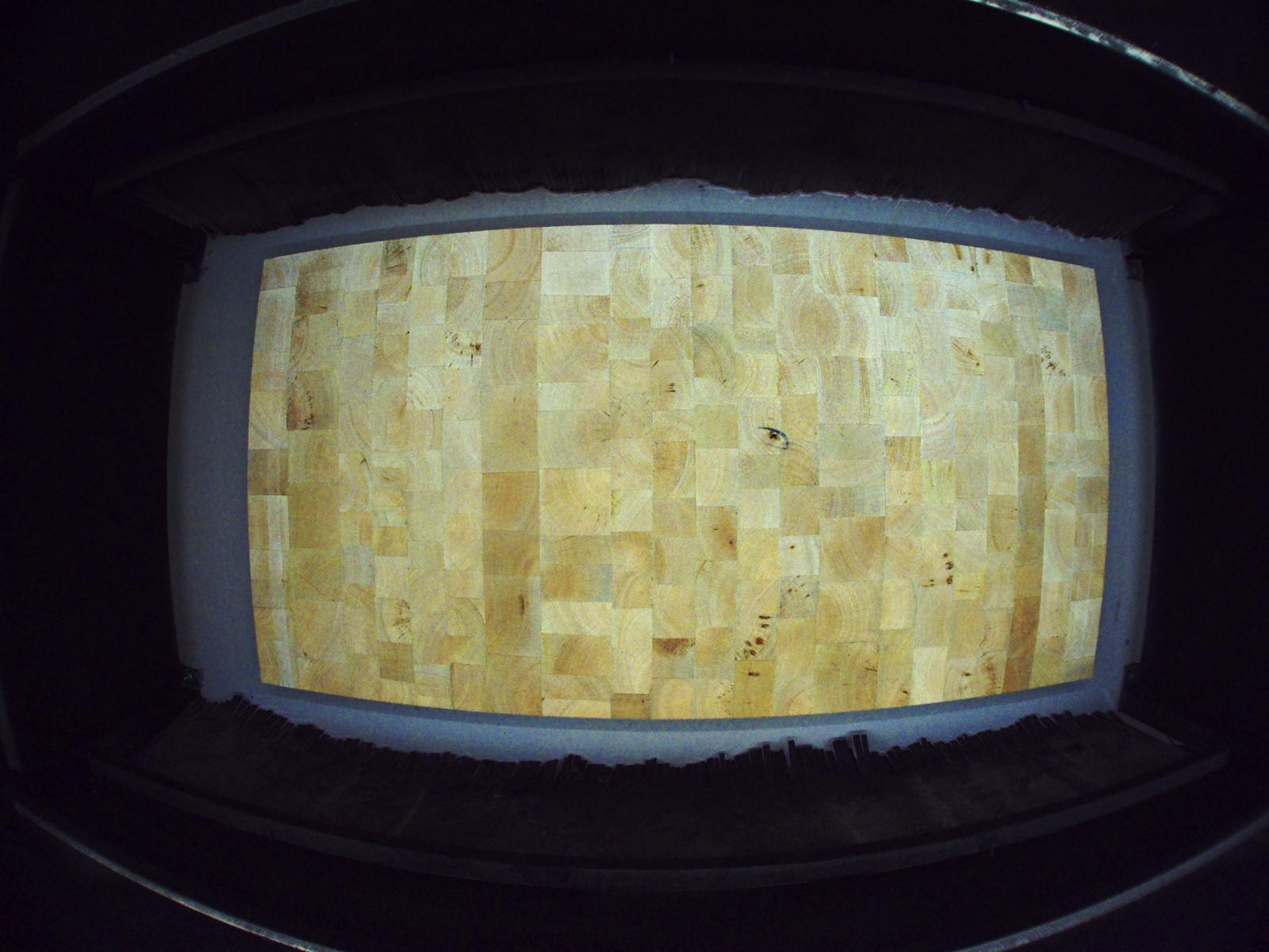nudillo: (768, 428, 783, 443)
